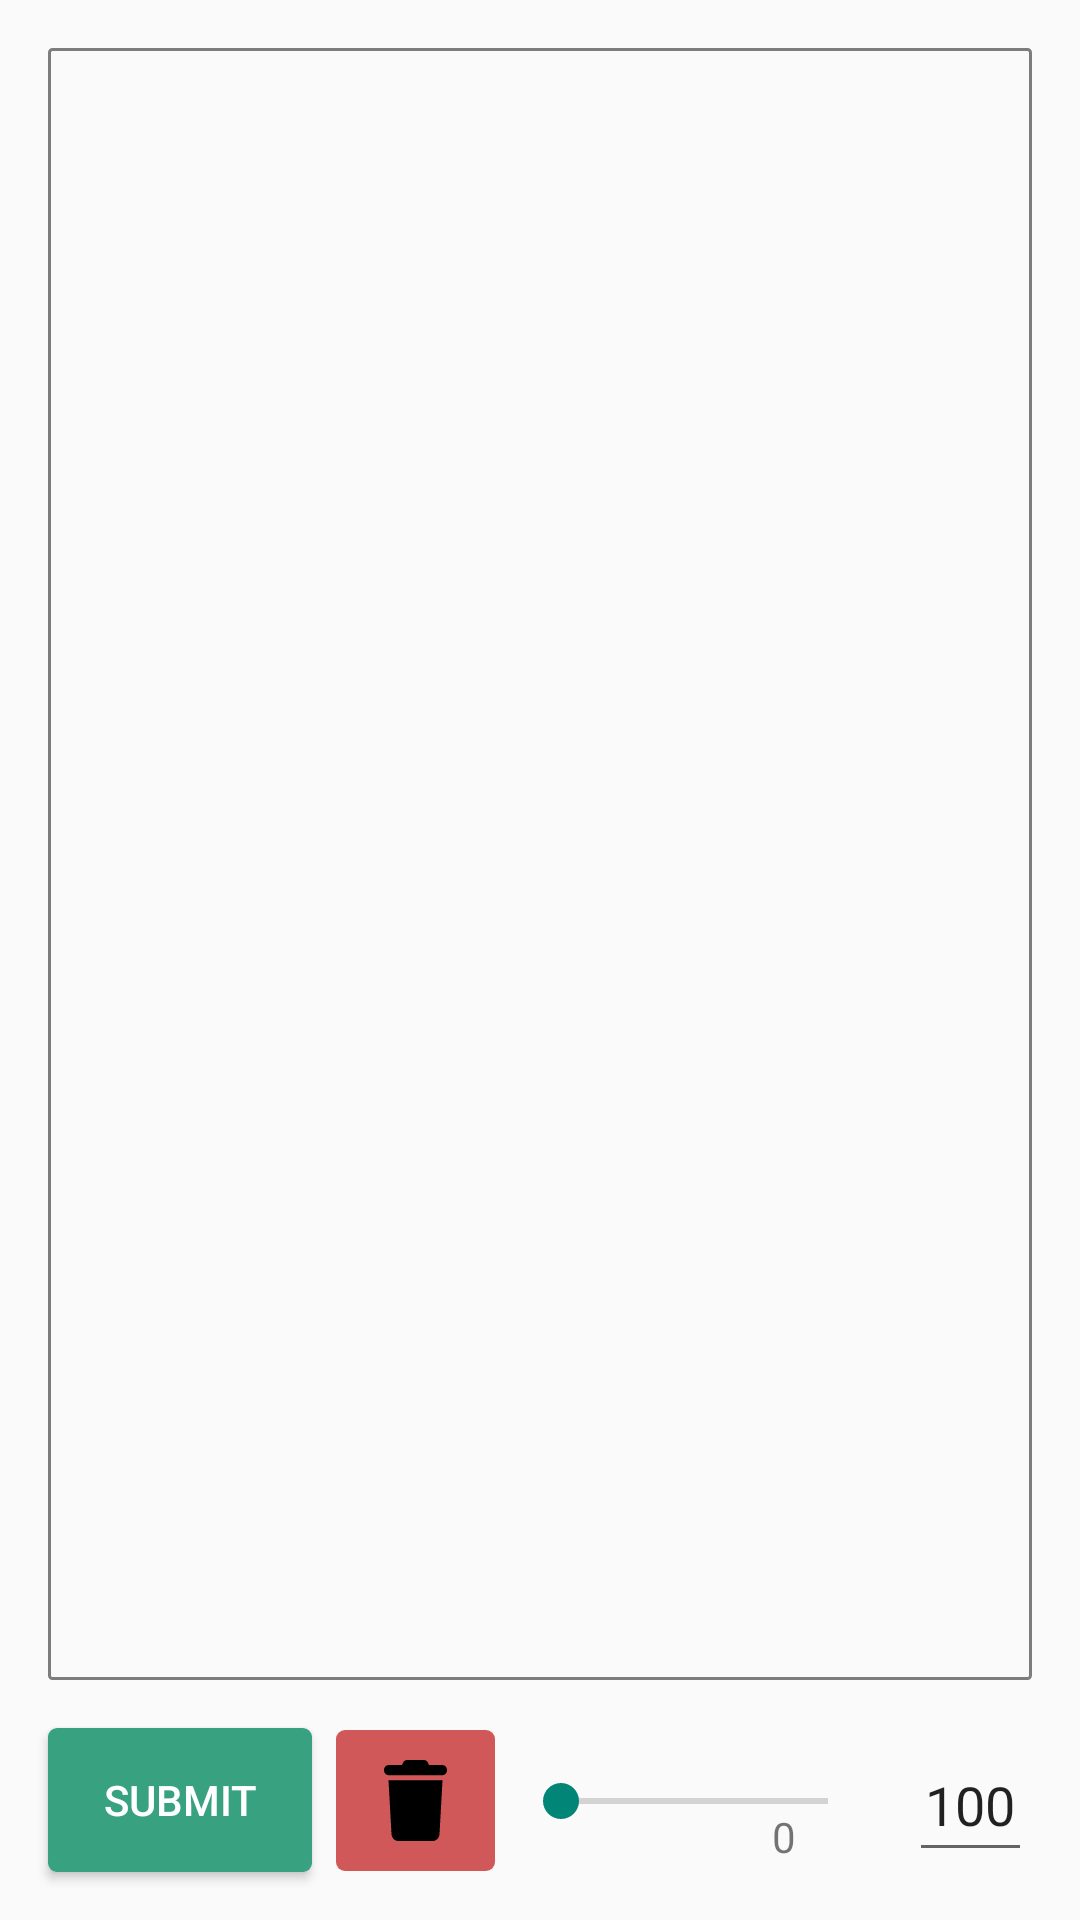

Point at icon controls on the screen. Image size 1080w x 1920h, points as (x,y).
trash: (415,1800)
